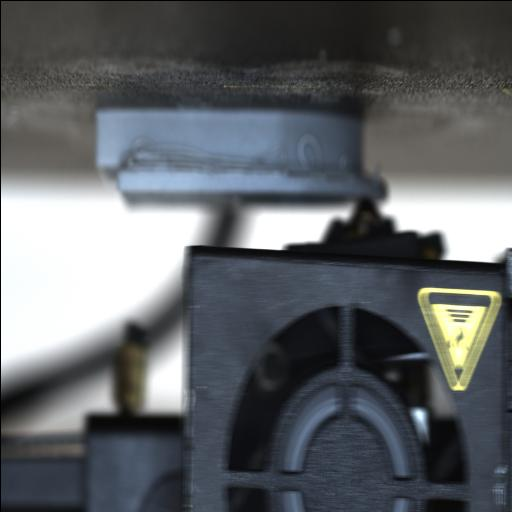layer_shift: (96, 158, 384, 180)
